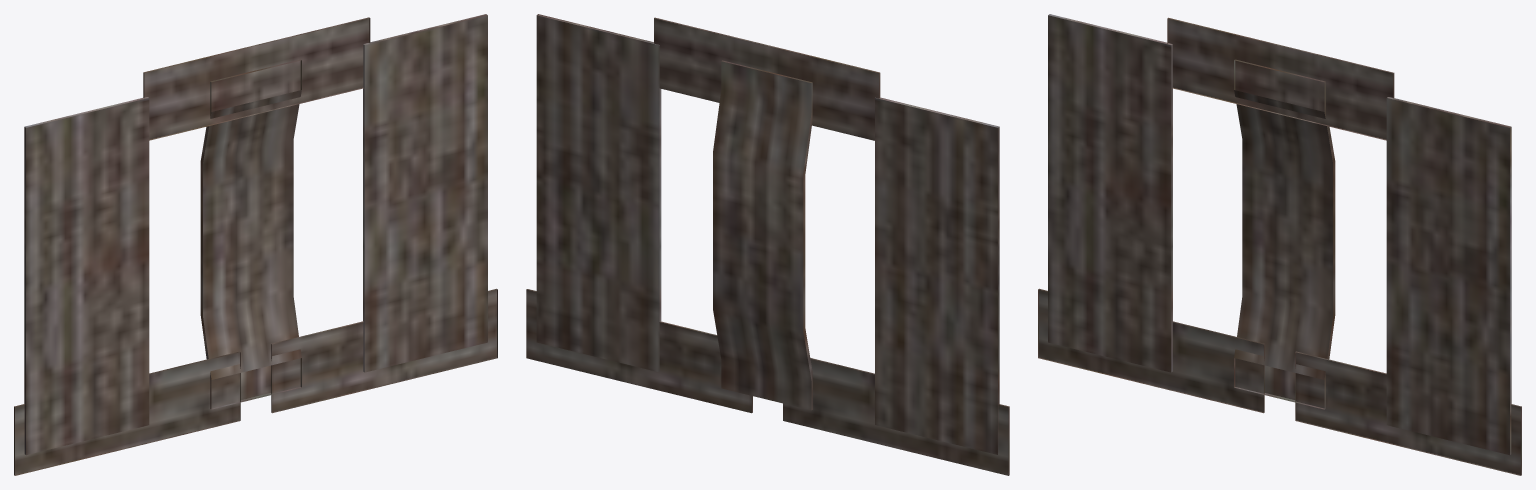
The model's file is metal_vertical_embrasure_textured.glb.
3 renders of one model, left to right at view 1: azimuth 30°, elevation 25°; view 2: azimuth 150°, elevation 25°; view 3: azimuth 330°, elevation 25°, orthographic.
Parts seen in each view (by area): view 1: Plane.002; view 2: Plane.002; view 3: Plane.002.
Part boxes in pixels (left/top/right/bottom): Plane.002: left=14, top=14, right=497, bottom=475; Plane.002: left=526, top=14, right=1009, bottom=475; Plane.002: left=1038, top=14, right=1521, bottom=475.
Size of the model in its own units: 1.93 by 1.42 by 0.0762.
1 material, 1 textured.
